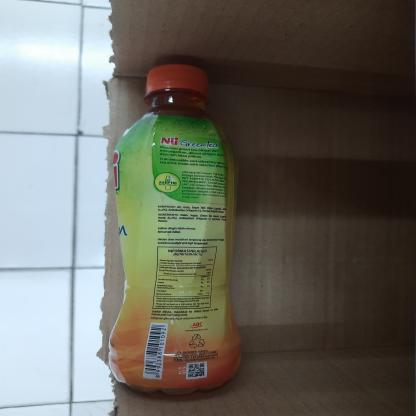bottle: (102, 60, 252, 402)
